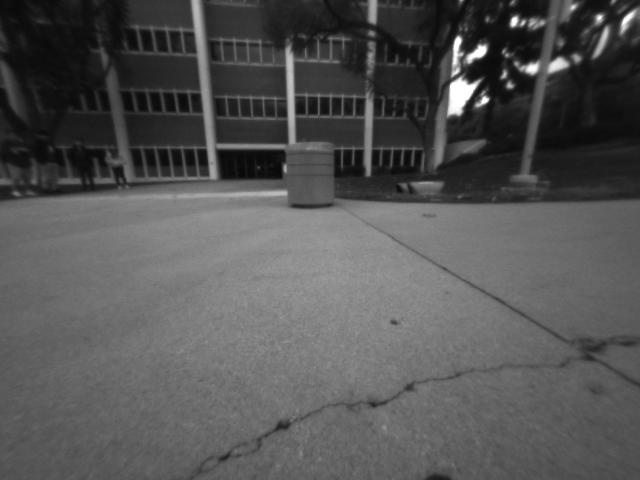trashcan: (285, 140, 335, 211)
